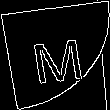M_N: (25, 26, 85, 84)
